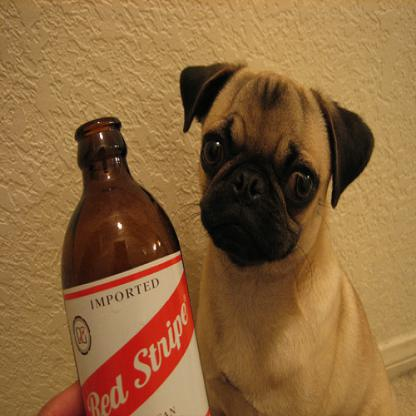bottle: (61, 115, 211, 415)
dog: (178, 62, 398, 414)
